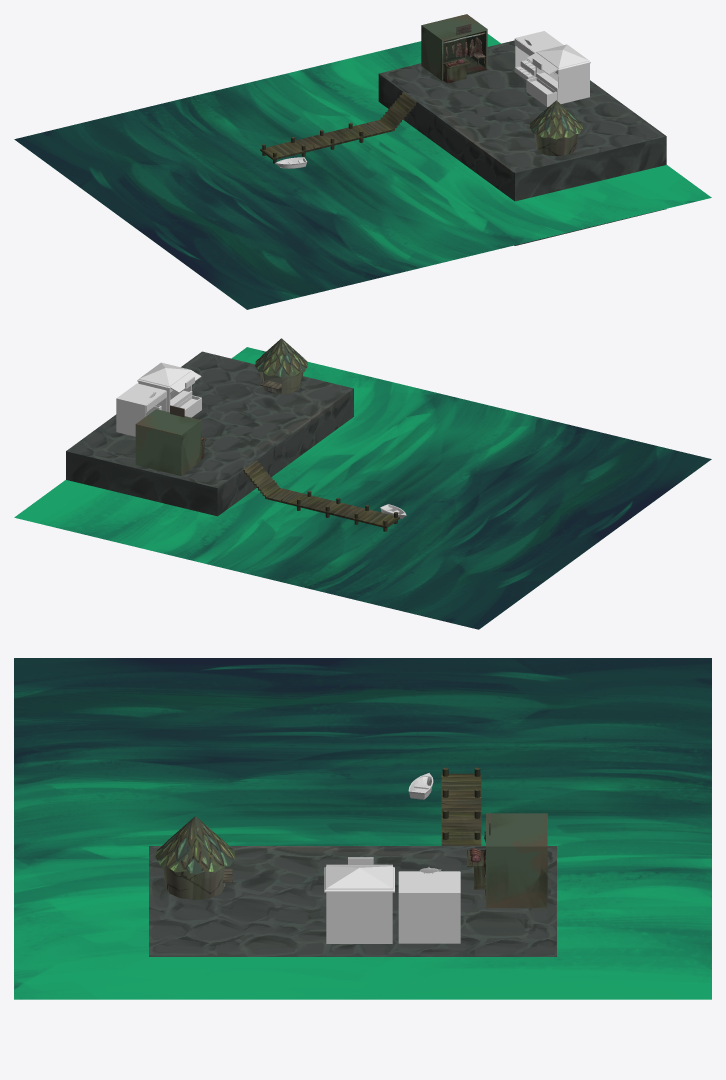
The model's file is env_base.fbx.
3 renders of one model, top to bottom at view 1: azimuth 30°, elevation 25°; view 2: azimuth 150°, elevation 25°; view 3: azimuth 270°, elevation 25°, orthographic. The views are drawn at different scales.
Parts seen in each view (by area): view 1: water, base, meat_stall, Box003, Object001, dock, Box004, stairs; view 2: water, base, meat_stall, Object001, dock, Box003, Box004, stairs; view 3: water, base, meat_stall, Box003, Box004, Object001, dock.
Boxes of the visible parts, x1=… form: water: x1=14, y1=34, x2=711, y2=309; base: x1=378, y1=40, x2=666, y2=245; meat_stall: x1=421, y1=14, x2=487, y2=83; Box003: x1=526, y1=44, x2=590, y2=106; Object001: x1=529, y1=100, x2=582, y2=156; dock: x1=260, y1=119, x2=393, y2=163; Box004: x1=514, y1=31, x2=563, y2=79; stairs: x1=380, y1=92, x2=417, y2=130; water: x1=14, y1=347, x2=711, y2=629; base: x1=66, y1=351, x2=353, y2=516; meat_stall: x1=135, y1=405, x2=206, y2=475; Object001: x1=255, y1=338, x2=307, y2=394; dock: x1=266, y1=487, x2=399, y2=531; Box003: x1=137, y1=362, x2=201, y2=417; Box004: x1=116, y1=383, x2=166, y2=436; stairs: x1=243, y1=460, x2=279, y2=498; water: x1=14, y1=658, x2=711, y2=999; base: x1=149, y1=846, x2=556, y2=956; meat_stall: x1=467, y1=813, x2=547, y2=907; Box003: x1=324, y1=857, x2=394, y2=943; Box004: x1=398, y1=866, x2=460, y2=943; Object001: x1=155, y1=816, x2=235, y2=899; dock: x1=441, y1=767, x2=481, y2=844.
Bounding box in the file's own units: 129 × 32.46 × 112.
